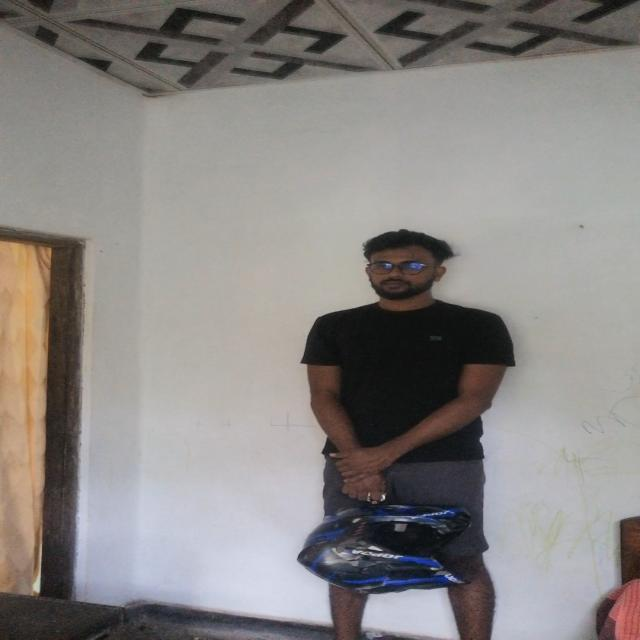Person: (290, 220, 517, 640)
